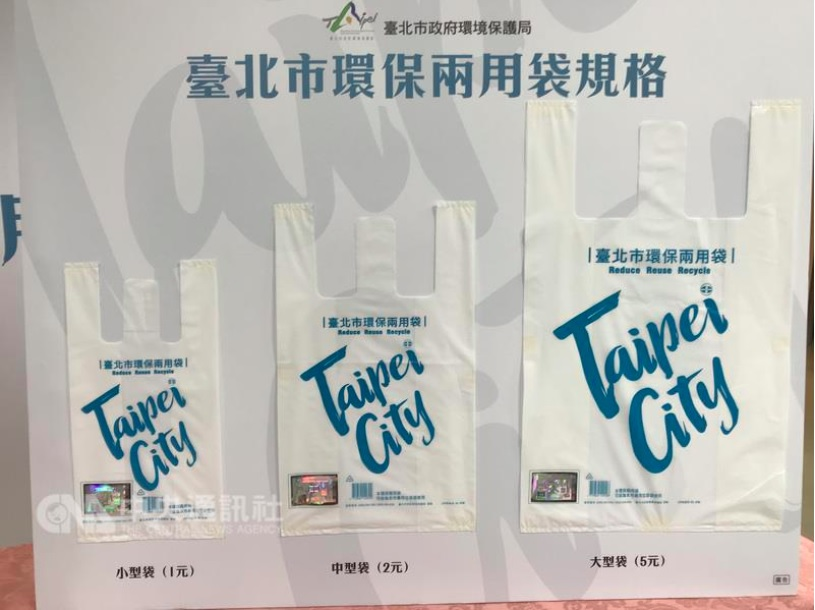plastic_bag: (510, 80, 806, 543), (271, 194, 492, 543), (54, 251, 237, 545)
